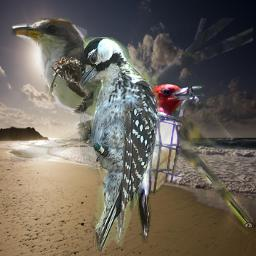Cuckoo: (10, 18, 253, 227)
Woodpecker: (80, 37, 161, 252), (123, 82, 206, 243)
